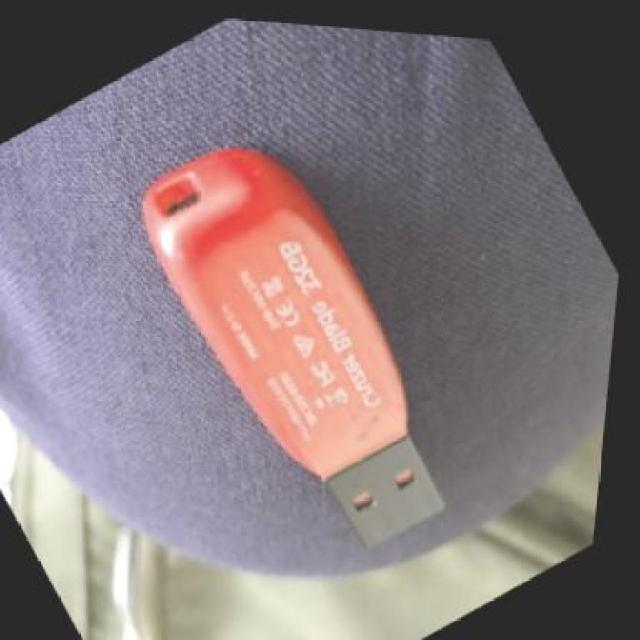Flashdisk: (73, 65, 536, 601)
